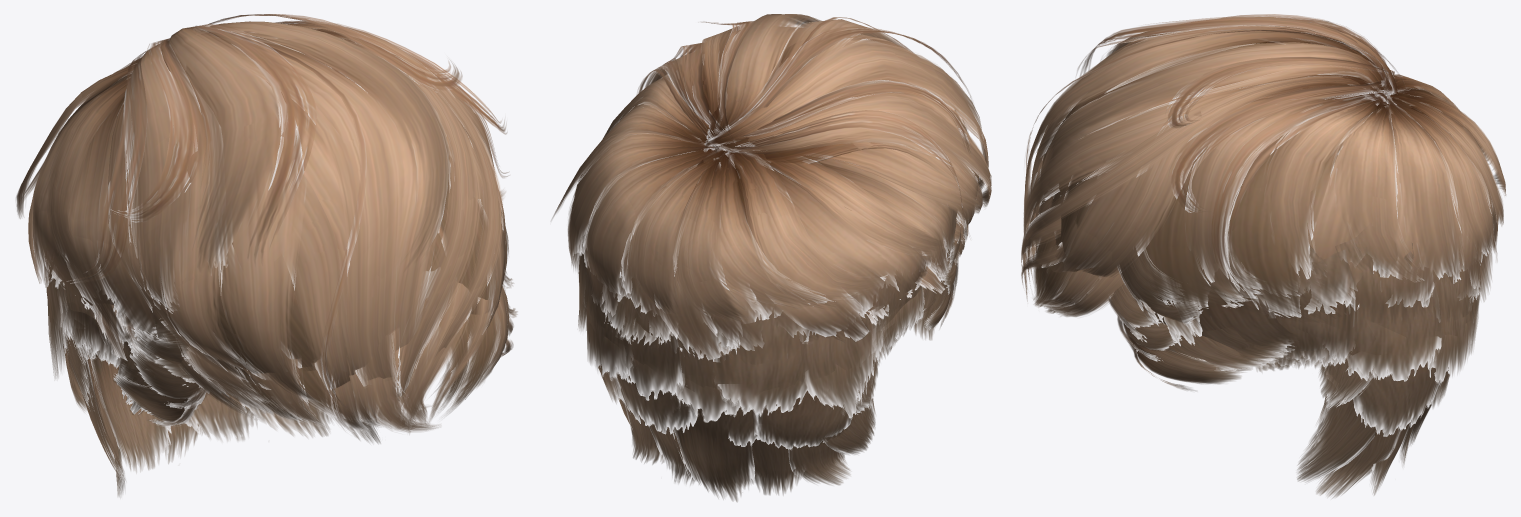
The model's file is hair16.glb.
The picture shows the model from 3 angles, left to right: view 1: azimuth 30°, elevation 25°; view 2: azimuth 150°, elevation 25°; view 3: azimuth 270°, elevation 25°; orthographic projection. The views are drawn at different scales.
Visible parts, largest first — view 1: s4studio_mesh_2, s4studio_mesh_3, s4studio_mesh_1; view 2: s4studio_mesh_2, s4studio_mesh_1, s4studio_mesh_3; view 3: s4studio_mesh_2, s4studio_mesh_1, s4studio_mesh_3.
Part boxes in pixels (x1,y1,x2,y2): s4studio_mesh_2: (16,14,513,496); s4studio_mesh_3: (46,269,517,493); s4studio_mesh_1: (44,256,515,494); s4studio_mesh_2: (551,14,991,501); s4studio_mesh_1: (580,215,964,494); s4studio_mesh_3: (584,212,968,492); s4studio_mesh_2: (1023,14,1506,494); s4studio_mesh_1: (1036,243,1478,495); s4studio_mesh_3: (1021,188,1448,494).
Bounding box in the file's own units: 0.1926 × 0.2003 × 0.2098.
Materials: 1 (1 with a texture image).
